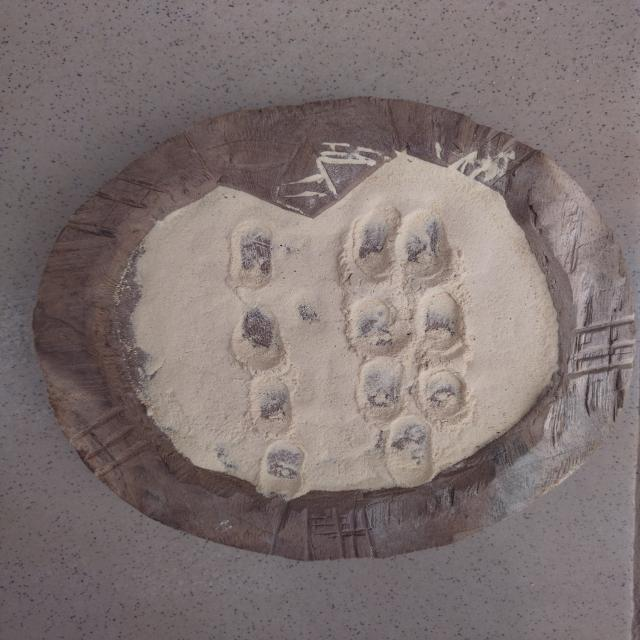double: (342, 205, 454, 288), (338, 290, 474, 358), (345, 358, 484, 421)
single: (228, 303, 292, 373), (222, 218, 282, 291), (382, 418, 441, 487), (238, 376, 300, 434), (254, 437, 310, 498)
